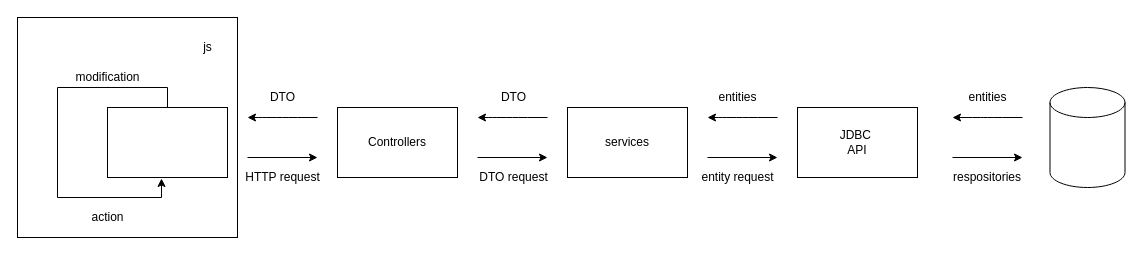
Some shapes in this 1143 by 255 pixel diagram are drawn without their labels. Each missing label, with the centre of its shape:
DB: the point at 1087,137
View: the point at 167,142
